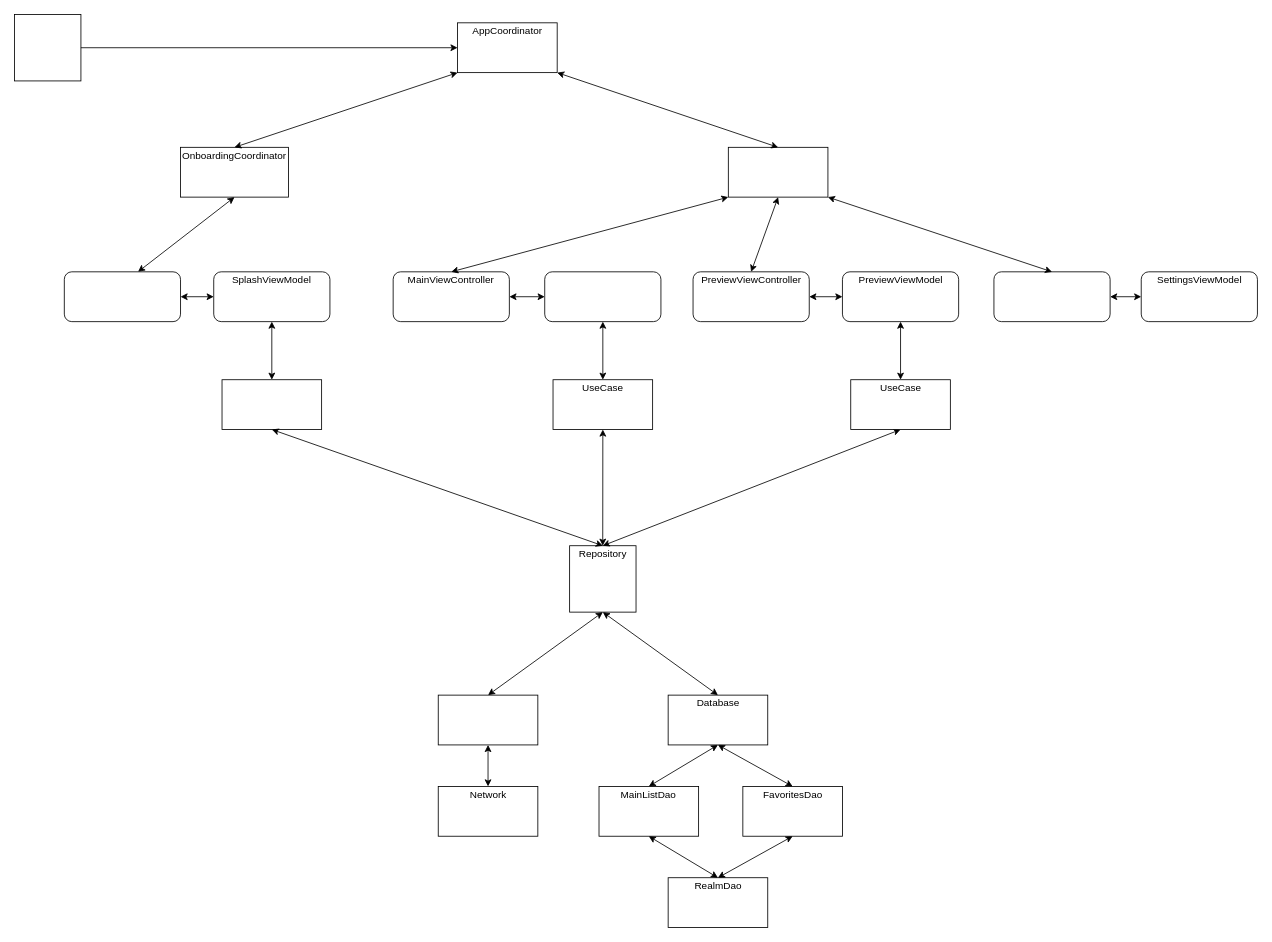
Some shapes in this 1272 by 942 pixel diagram are drawn without their labels. The centre of each missing label's shape, as x and y in pixels:
"ApiDataStore" belongs at point 487,719.
"AppDelegate" belongs at point 47,47.
"GetDataUseCase" belongs at point 271,404.
"MainCoordinator" belongs at point 777,171.
"MainViewModel" belongs at point 602,296.
"SettingsViewController" belongs at point 1051,296.
"SplashViewController" belongs at point 122,296.
